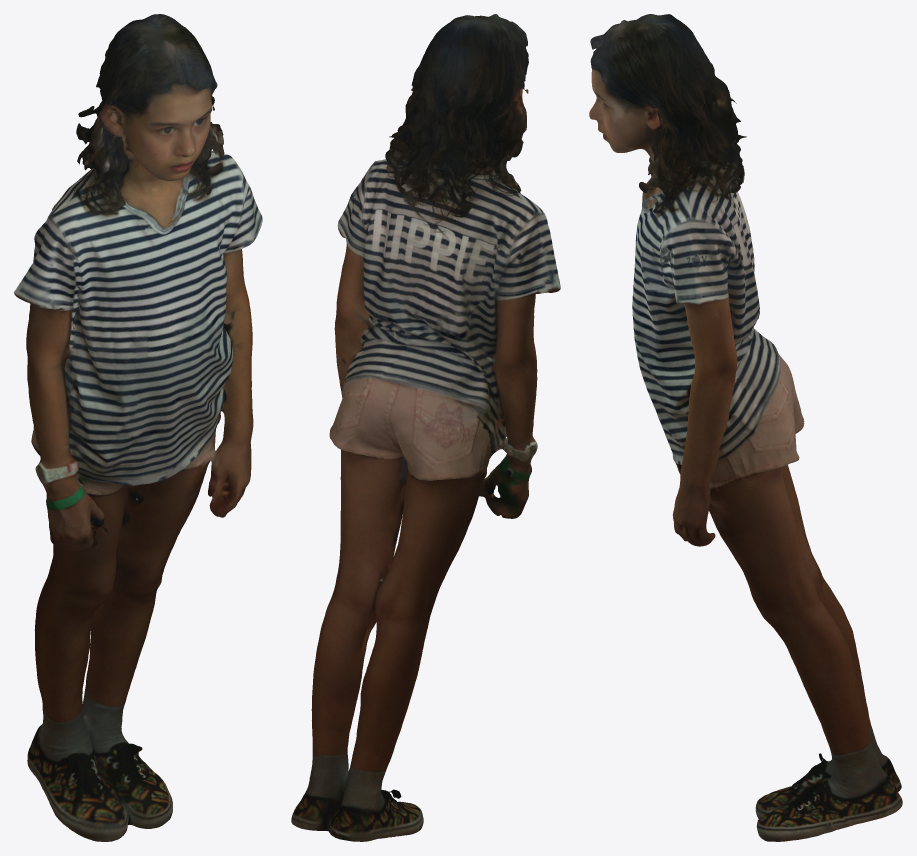
Rendered from casual_portrait_in_a_black_tshirt.glb.
The picture shows the model from 3 angles, left to right: view 1: azimuth 30°, elevation 25°; view 2: azimuth 150°, elevation 25°; view 3: azimuth 270°, elevation 25°; orthographic projection. The views are drawn at different scales.
Parts seen in each view (by area): view 1: Object_3, Object_4; view 2: Object_3, Object_4; view 3: Object_3, Object_4.
Boxes of the visible parts, box(x1,y1,x2,y2) form: Object_3: box(14, 14, 259, 841); Object_4: box(50, 16, 262, 544); Object_3: box(291, 14, 560, 841); Object_4: box(334, 16, 543, 397); Object_3: box(593, 14, 902, 841); Object_4: box(589, 21, 744, 568).
Size of the model in its own units: 0.4063 by 1.35 by 0.4833.
Materials: 1 (1 with a texture image).
